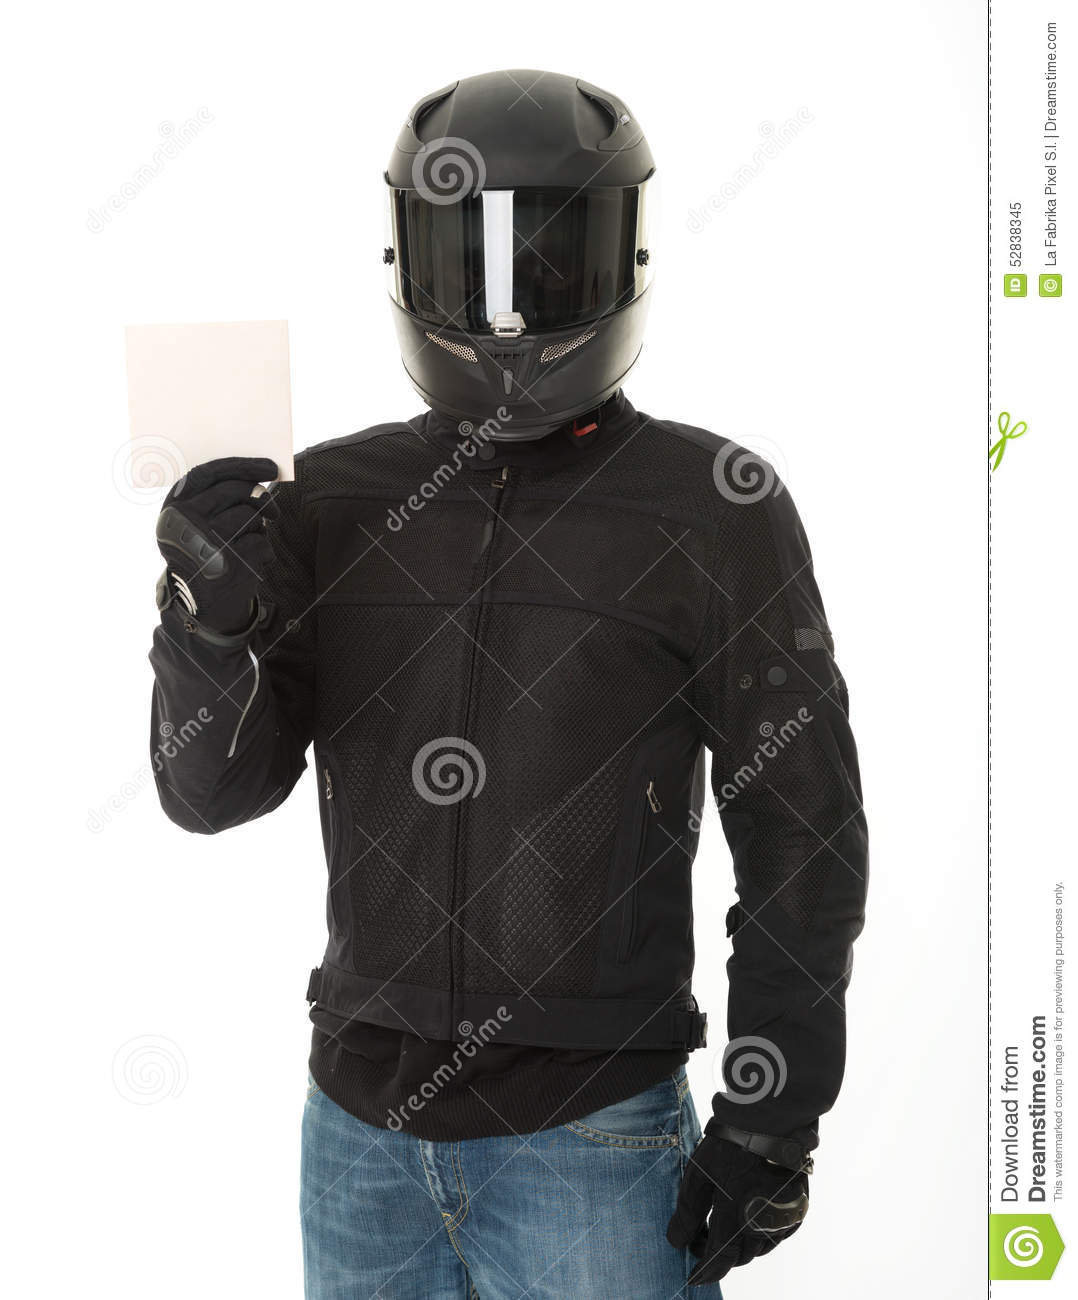helmet: (373, 79, 645, 426)
